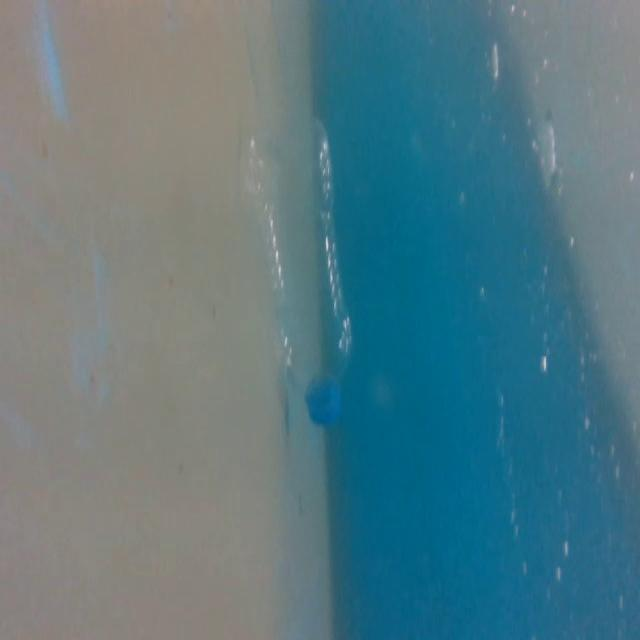plastic bottle: (233, 113, 371, 434)
